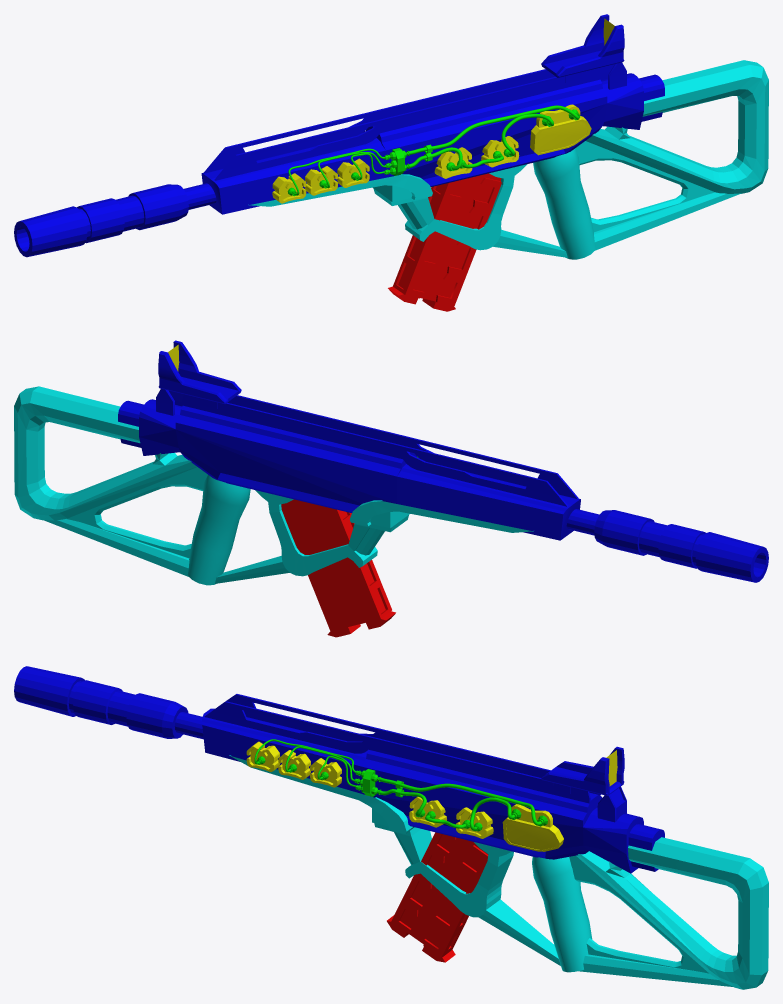
The model's file is Fusil.fbx.
The picture shows the model from 3 angles, top to bottom: view 1: azimuth 30°, elevation 25°; view 2: azimuth 150°, elevation 25°; view 3: azimuth 330°, elevation 25°; orthographic projection.
Visible parts, largest first — view 1: Cuerpo, Culata, Cargador, Camara_Cables, Cable; view 2: Cuerpo, Culata, Cargador; view 3: Cuerpo, Culata, Cargador, Camara_Cables, Cable.
Boxes of the visible parts, bbox=[...] form: Cuerpo: bbox=[14, 14, 664, 257]; Culata: bbox=[248, 60, 768, 259]; Cargador: bbox=[388, 173, 501, 311]; Camara_Cables: bbox=[272, 18, 614, 203]; Cable: bbox=[287, 105, 580, 196]; Cuerpo: bbox=[118, 340, 768, 582]; Culata: bbox=[14, 386, 533, 585]; Cargador: bbox=[281, 499, 395, 637]; Cuerpo: bbox=[14, 666, 664, 873]; Culata: bbox=[229, 755, 768, 989]; Cargador: bbox=[387, 832, 488, 962]; Camara_Cables: bbox=[246, 741, 617, 851]; Cable: bbox=[254, 739, 547, 831].
Bounding box in the file's own units: 24.63 × 7.77 × 2.07.
